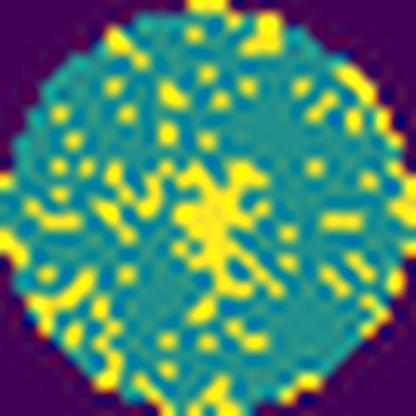Center: (177, 159, 288, 320)
